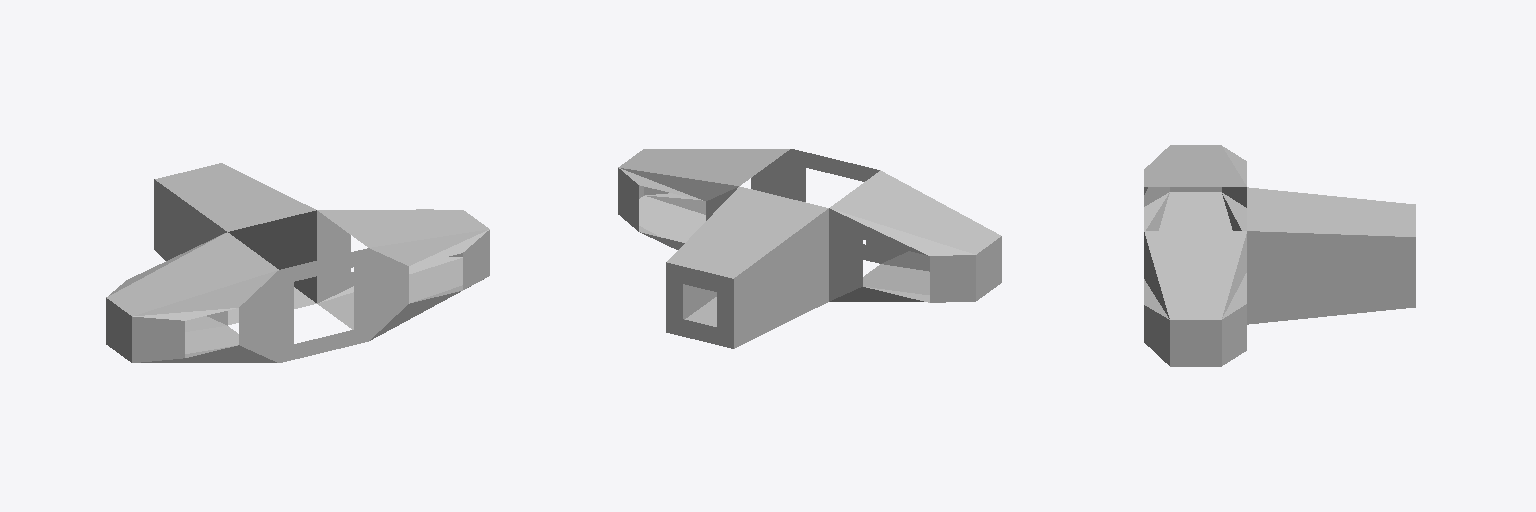
The model's file is NewShipMid.obj.
The picture shows the model from 3 angles: view 1: azimuth 30°, elevation 25°; view 2: azimuth 150°, elevation 25°; view 3: azimuth 270°, elevation 25°; orthographic projection.
Visible parts, largest first — view 1: Cube; view 2: Cube; view 3: Cube.
Part boxes in pixels (bbox=[...]): Cube: bbox=[106, 163, 489, 362]; Cube: bbox=[618, 149, 1001, 348]; Cube: bbox=[1144, 145, 1415, 366].
Bounding box in the file's own units: 155 × 38.68 × 102.